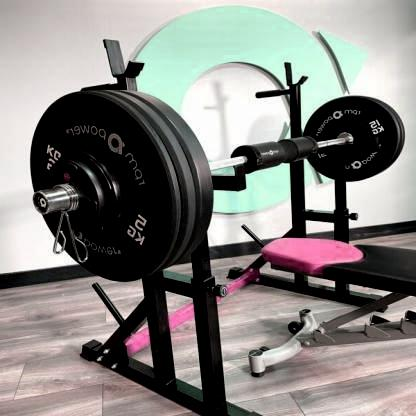Barbell: (29, 189, 49, 216)
